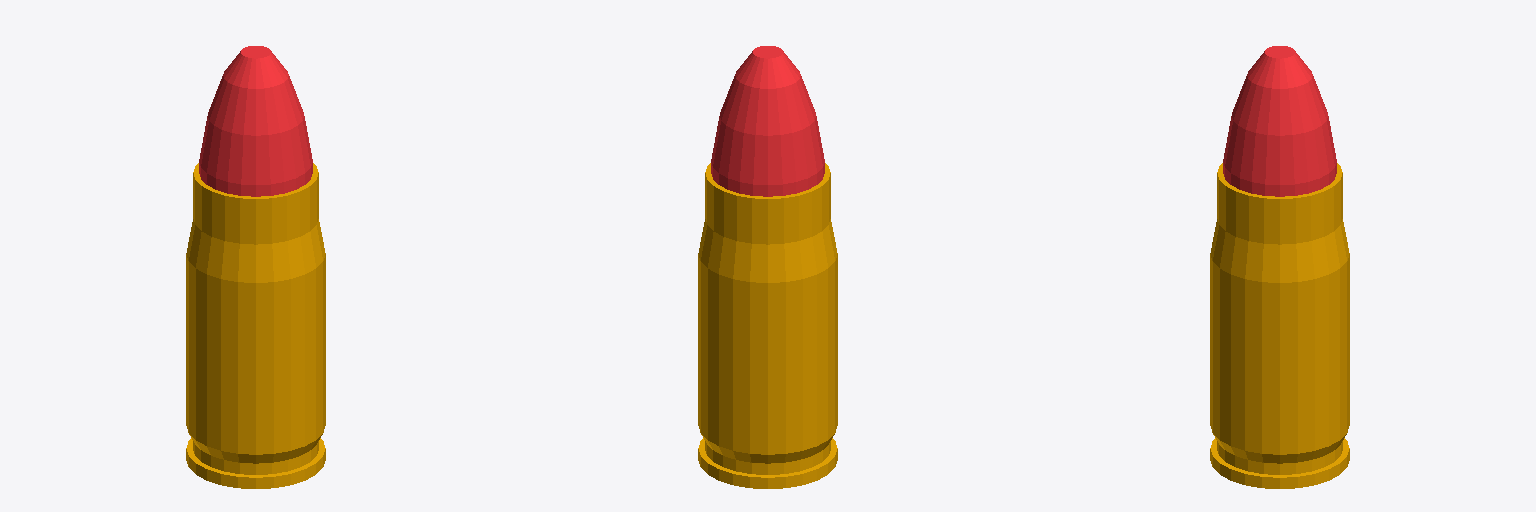
Rendered from ammo_sniper.obj.
The picture shows the model from 3 angles: view 1: azimuth 30°, elevation 25°; view 2: azimuth 150°, elevation 25°; view 3: azimuth 270°, elevation 25°; orthographic projection.
Parts seen in each view (by area): view 1: Group; view 2: Group; view 3: Group.
Boxes of the visible parts, <box> form: Group: <box>186,46,325,488</box>; Group: <box>698,46,837,488</box>; Group: <box>1210,46,1349,488</box>.
Bounding box in the file's own units: 0.0421 × 0.1359 × 0.0421.